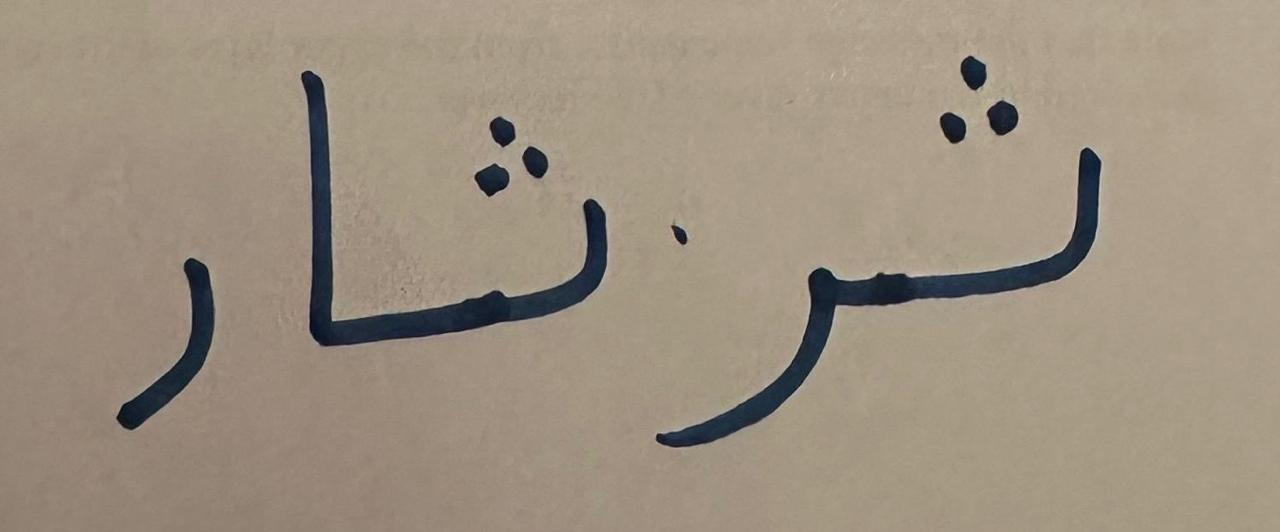alef: (260, 29, 393, 378)
sad: (639, 247, 887, 475), (68, 209, 255, 457)
waw: (890, 32, 1137, 377), (395, 85, 635, 371)
